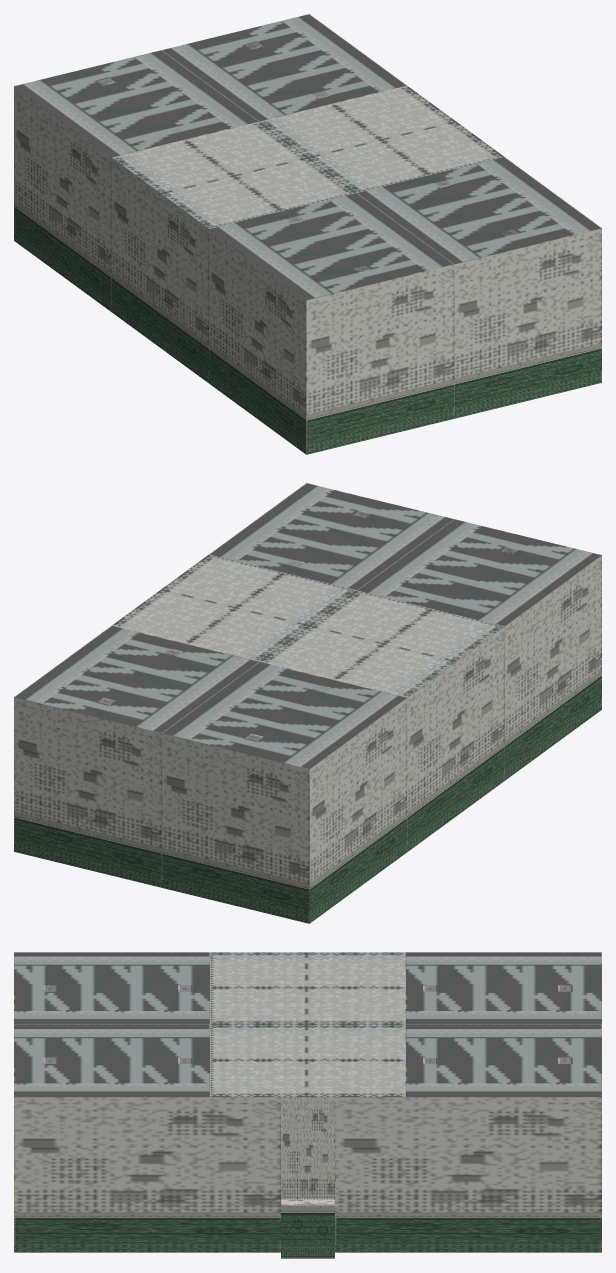
The model's file is factory.glb.
3 views of the same model, one above another, from view 1: azimuth 30°, elevation 25°; view 2: azimuth 150°, elevation 25°; view 3: azimuth 270°, elevation 25° (orthographic).
Parts seen in each view (by area): view 1: walls; view 2: walls; view 3: walls.
Boxes of the visible parts, bbox=[...] form: walls: bbox=[14, 14, 601, 454]; walls: bbox=[14, 483, 601, 923]; walls: bbox=[14, 952, 601, 1258].
Size of the model in its own units: 14.6 by 7 by 24.
Materials: 4 (3 with a texture image).
